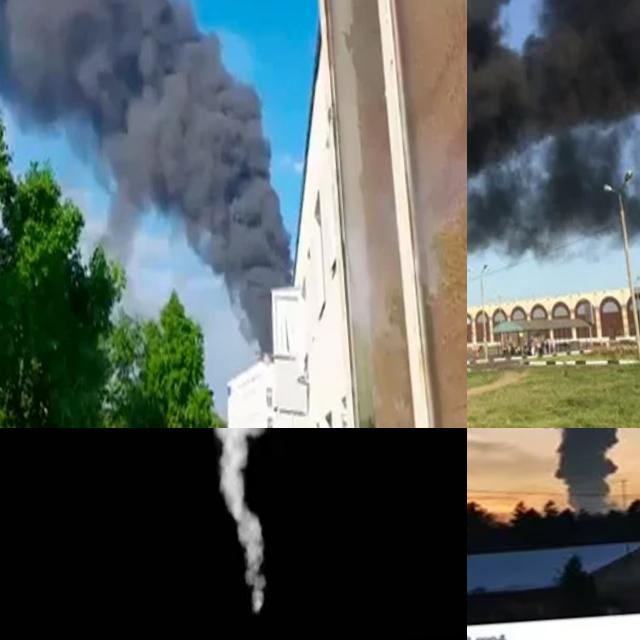smoke: (0, 0, 299, 370), (467, 0, 640, 339), (129, 428, 321, 622), (513, 428, 640, 515)
